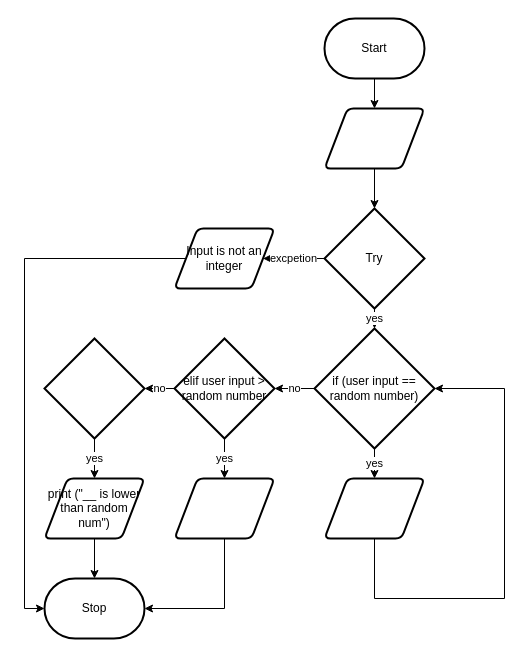
Image size: 530x656. Some labels were removed from this diagram. The centre of each missing label's shape, as x and y in pixels:
elif user input < random number: pixel 94 388
Get user input: pixel 374 138
print ("__ is higher than the random num"): pixel 224 508
print (Correct!): pixel 374 508
